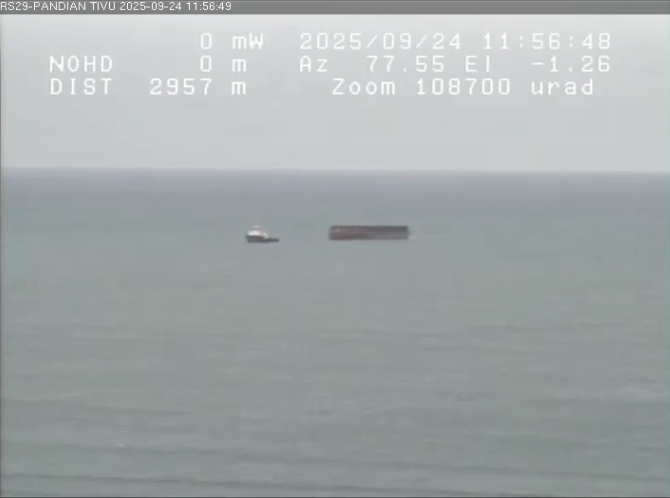BARGE: (314, 214, 422, 249)
OFFSHORE_SUPPLY_VESSEL: (241, 218, 289, 254)
TOWING: (222, 189, 500, 298)
